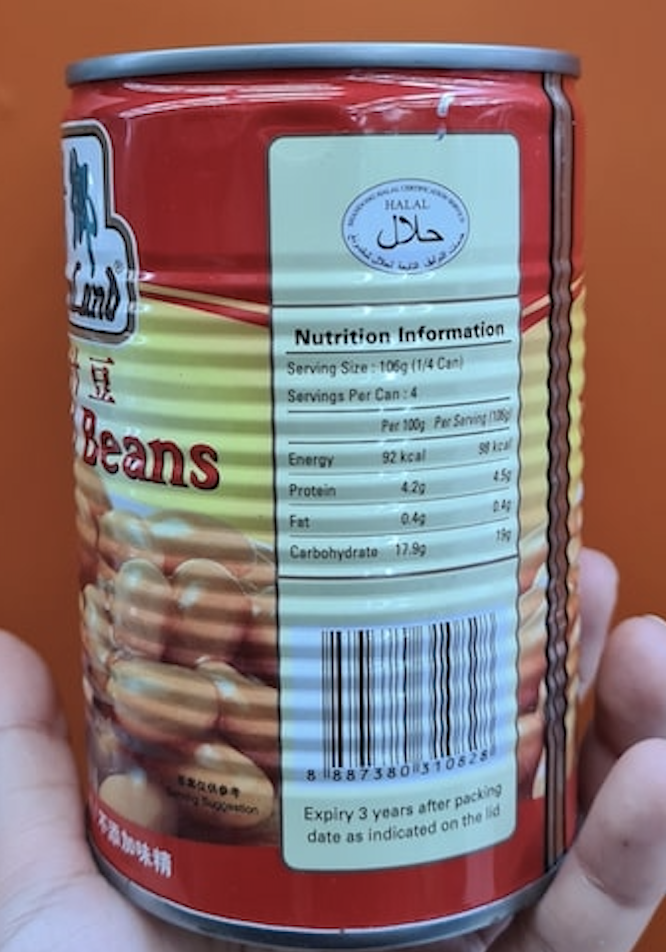Halal: (371, 199, 450, 247)
